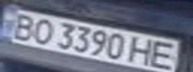0: (106, 30, 130, 61)
3: (51, 20, 78, 51), (69, 24, 93, 55)
9: (87, 28, 109, 57)
B: (3, 11, 42, 39)
E: (148, 39, 184, 71)
H: (127, 35, 160, 66)
O: (24, 16, 60, 46)
